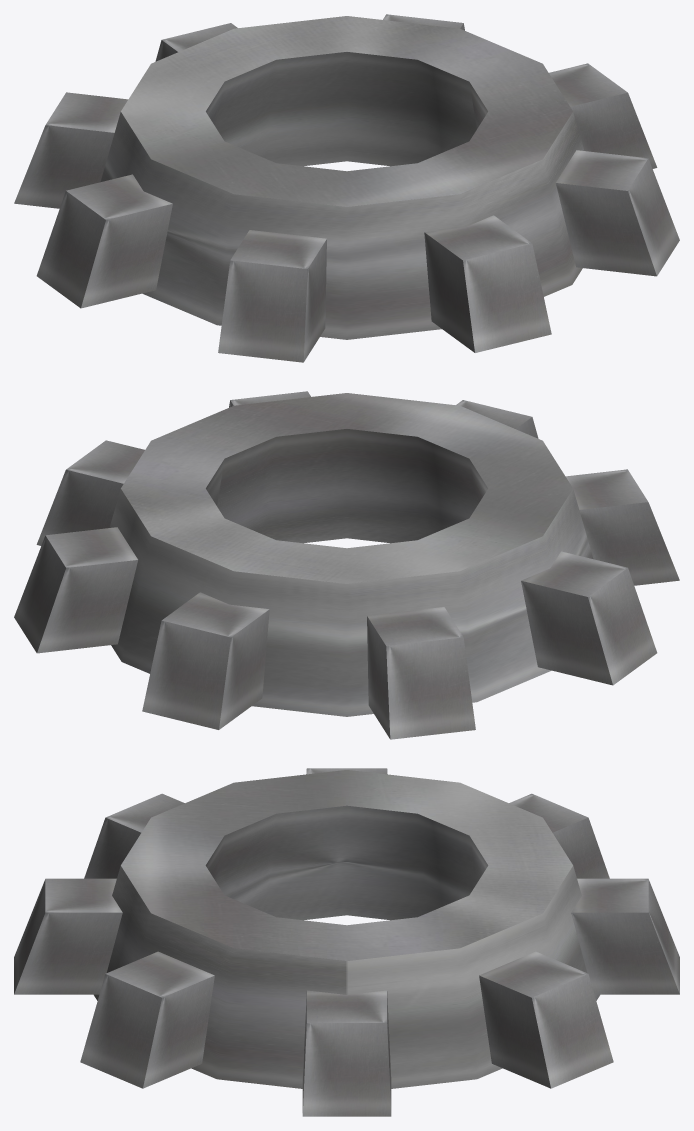
File: static.fbx
3 views of the same model, one above another, from view 1: azimuth 30°, elevation 25°; view 2: azimuth 150°, elevation 25°; view 3: azimuth 270°, elevation 25° (orthographic).
Parts seen in each view (by area): view 1: Tube, Cube_4, Cube_6, Cube_5, Cube_3, Cube_7, Cube_2, Cube_0, Cube_1; view 2: Tube, Cube_0, Cube_6, Cube_7, Cube_1, Cube_5, Cube_2, Cube_4, Cube_3; view 3: Tube, Cube_1, Cube_3, Cube_2, Cube_0, Cube_4, Cube_5, Cube_7.
Boxes of the visible parts, x1,y1,x2,y2 form: Tube: [100, 16, 584, 339]; Cube_4: [424, 215, 551, 352]; Cube_6: [36, 174, 172, 308]; Cube_5: [218, 230, 326, 362]; Cube_3: [556, 150, 679, 276]; Cube_7: [14, 92, 128, 208]; Cube_2: [549, 63, 657, 168]; Cube_0: [155, 23, 237, 61]; Cube_1: [383, 14, 464, 30]; Tube: [109, 393, 593, 716]; Cube_0: [142, 592, 269, 729]; Cube_6: [521, 551, 657, 685]; Cube_7: [367, 607, 475, 739]; Cube_1: [14, 527, 137, 653]; Cube_5: [565, 469, 679, 585]; Cube_2: [36, 440, 144, 545]; Cube_4: [456, 400, 538, 438]; Cube_3: [229, 391, 310, 407]; Tube: [94, 770, 599, 1088]; Cube_1: [479, 951, 613, 1088]; Cube_3: [80, 951, 214, 1088]; Cube_2: [302, 990, 391, 1116]; Cube_0: [571, 878, 679, 994]; Cube_4: [14, 878, 122, 994]; Cube_5: [84, 793, 184, 878]; Cube_7: [509, 793, 609, 878].
Bounding box in the file's own units: 72.41 × 14.22 × 72.41.
Materials: 1 (1 with a texture image).
